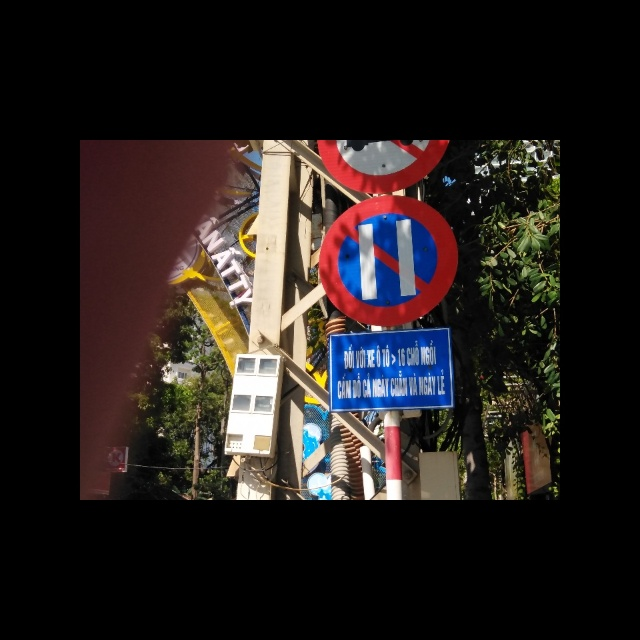Cấm đỗ xe ngày chẵn: (317, 193, 464, 324)
